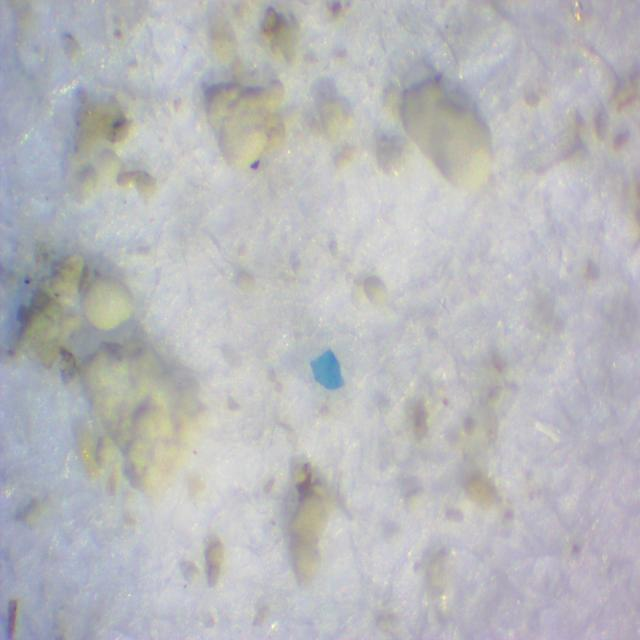microplastic: (311, 348, 346, 389)
